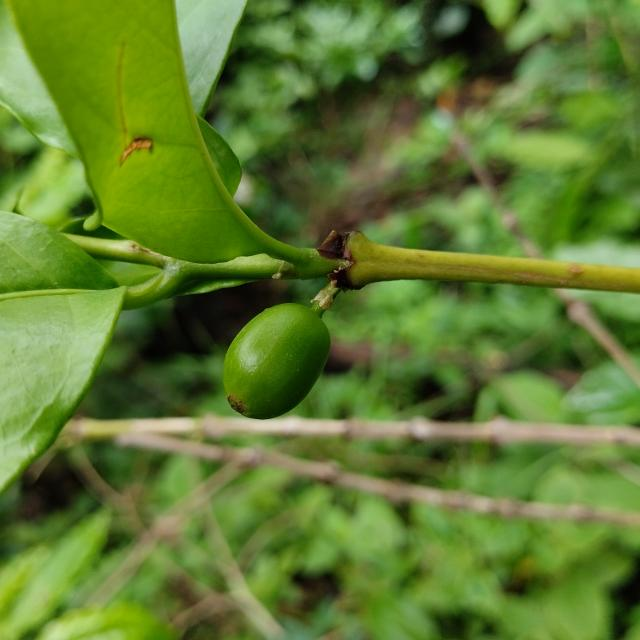green: (223, 303, 331, 419)
